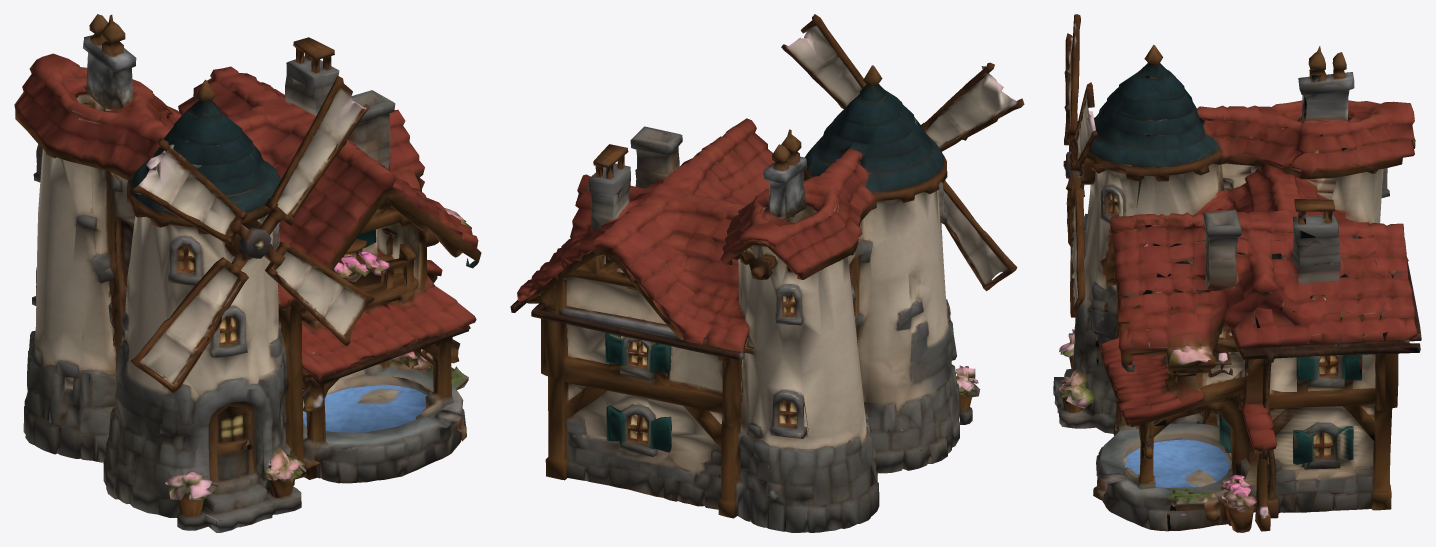
The picture shows the model from 3 angles, left to right: view 1: azimuth 30°, elevation 25°; view 2: azimuth 150°, elevation 25°; view 3: azimuth 270°, elevation 25°; orthographic projection. The views are drawn at different scales.
Visible parts, largest first — view 1: alpine__windmill__neural_lod, alpine__windmill__neural_rotor; view 2: alpine__windmill__neural_lod, alpine__windmill__neural_rotor; view 3: alpine__windmill__neural_lod, alpine__windmill__neural_rotor.
Part boxes in pixels (x1,y1,x2,y2): alpine__windmill__neural_lod: [14, 14, 481, 532]; alpine__windmill__neural_rotor: [131, 75, 374, 393]; alpine__windmill__neural_lod: [510, 65, 980, 532]; alpine__windmill__neural_rotor: [781, 14, 1024, 291]; alpine__windmill__neural_lod: [1053, 45, 1421, 532]; alpine__windmill__neural_rotor: [1063, 14, 1097, 317].
Bounding box in the file's own units: 1 × 0.9771 × 0.8604.
1 material, 1 textured.
